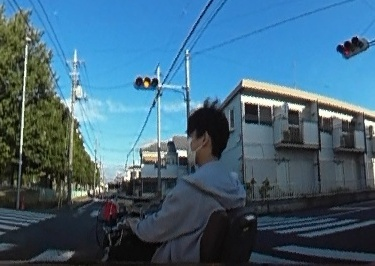person: (133, 105, 247, 266)
